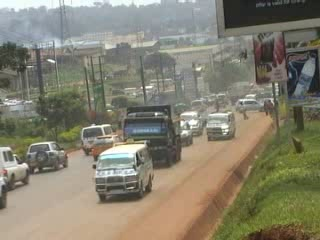Car: (0, 141, 34, 192), (26, 139, 71, 173), (90, 133, 125, 161), (178, 109, 204, 139), (233, 97, 267, 113), (179, 118, 195, 147)
